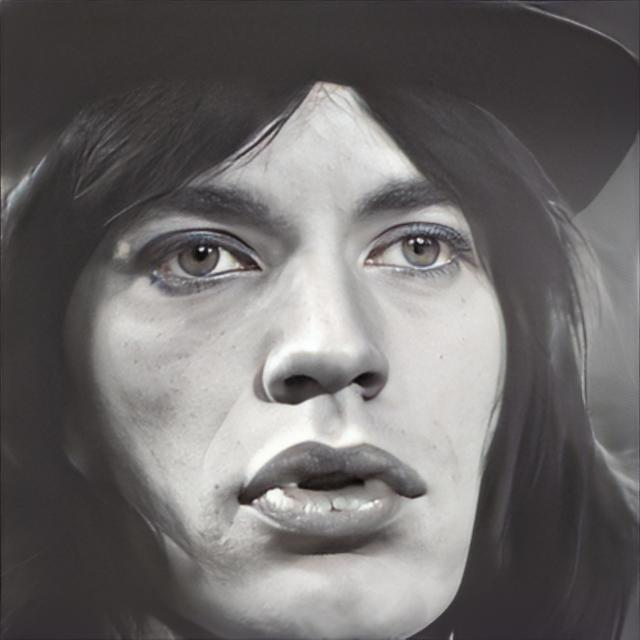neutral: (62, 56, 508, 640)
